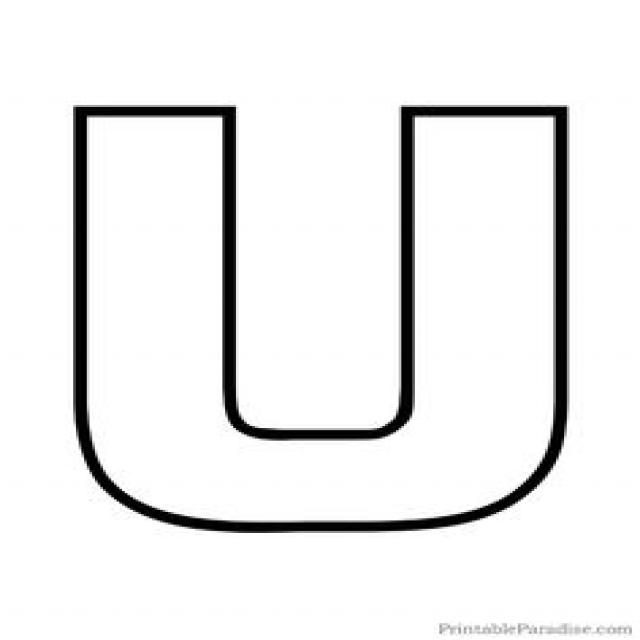U: (51, 66, 583, 577)
